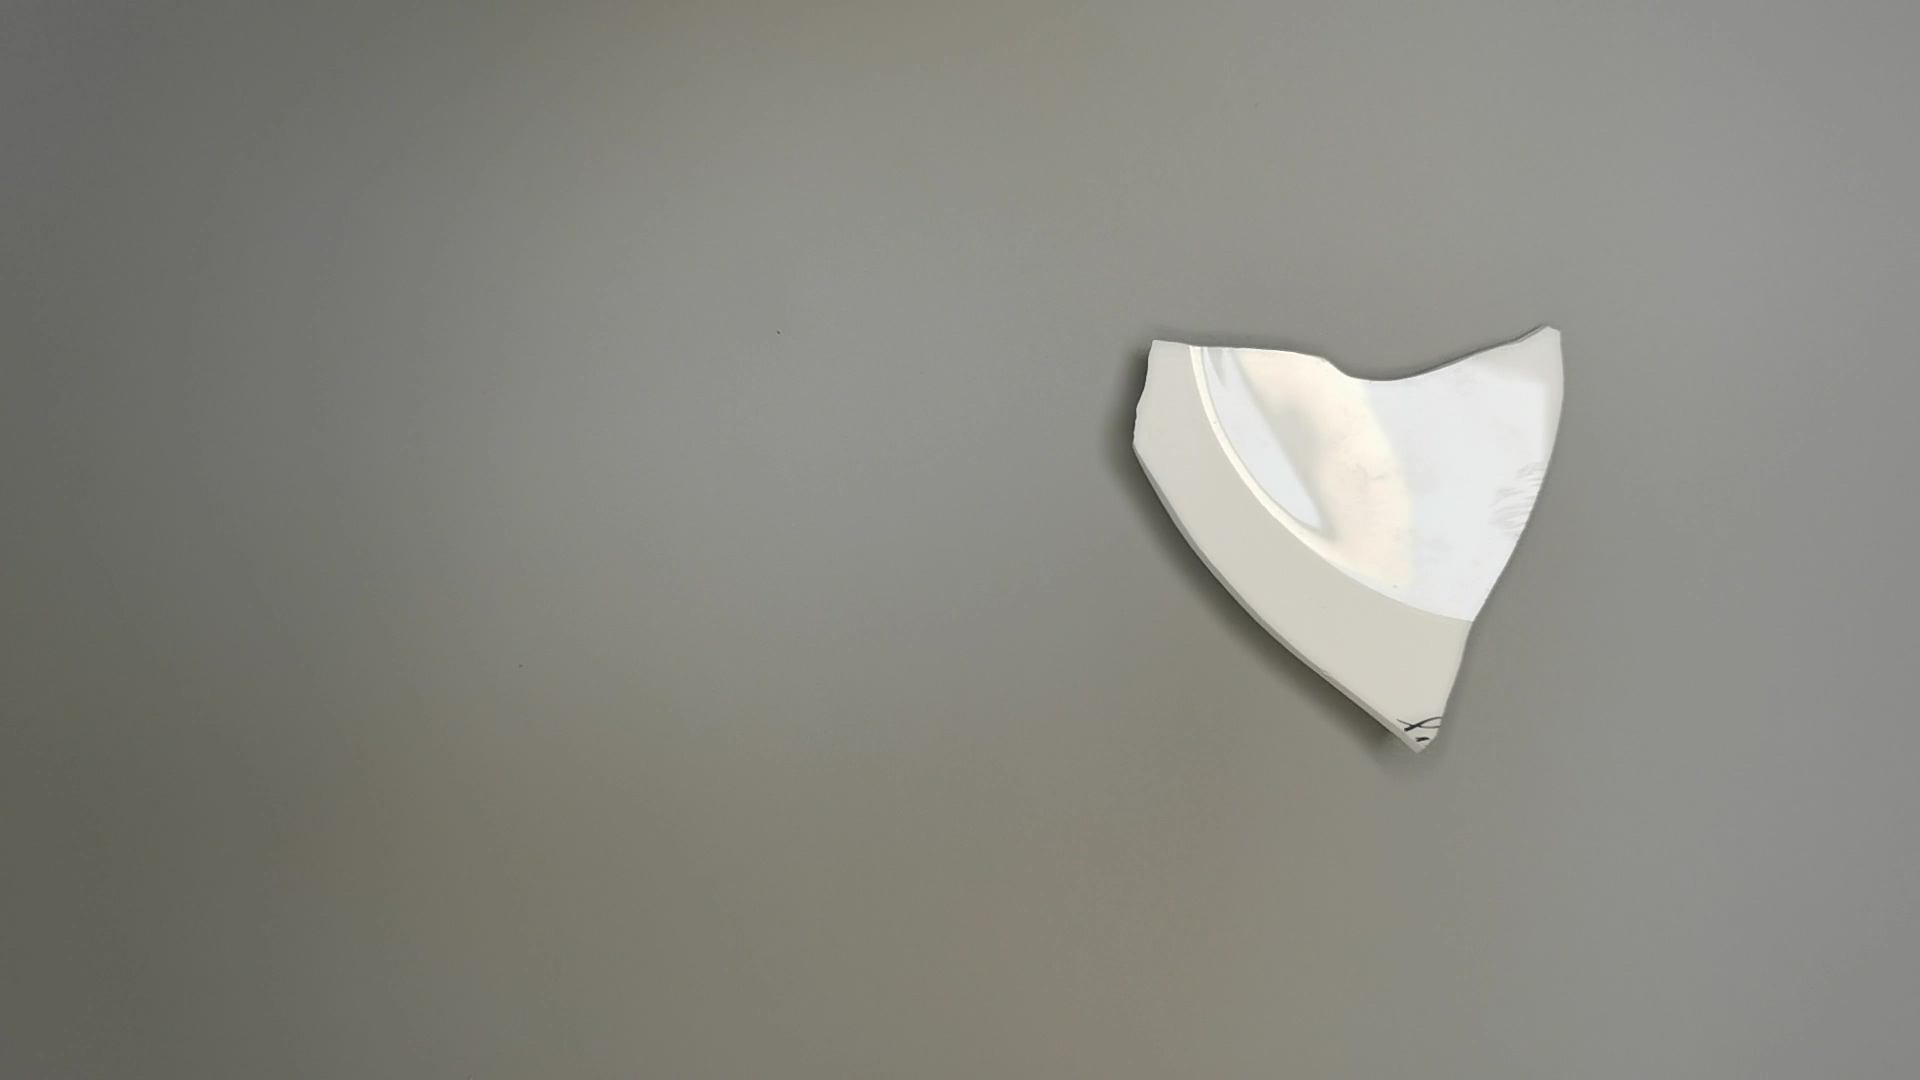ceramic: (1125, 313, 1577, 749)
